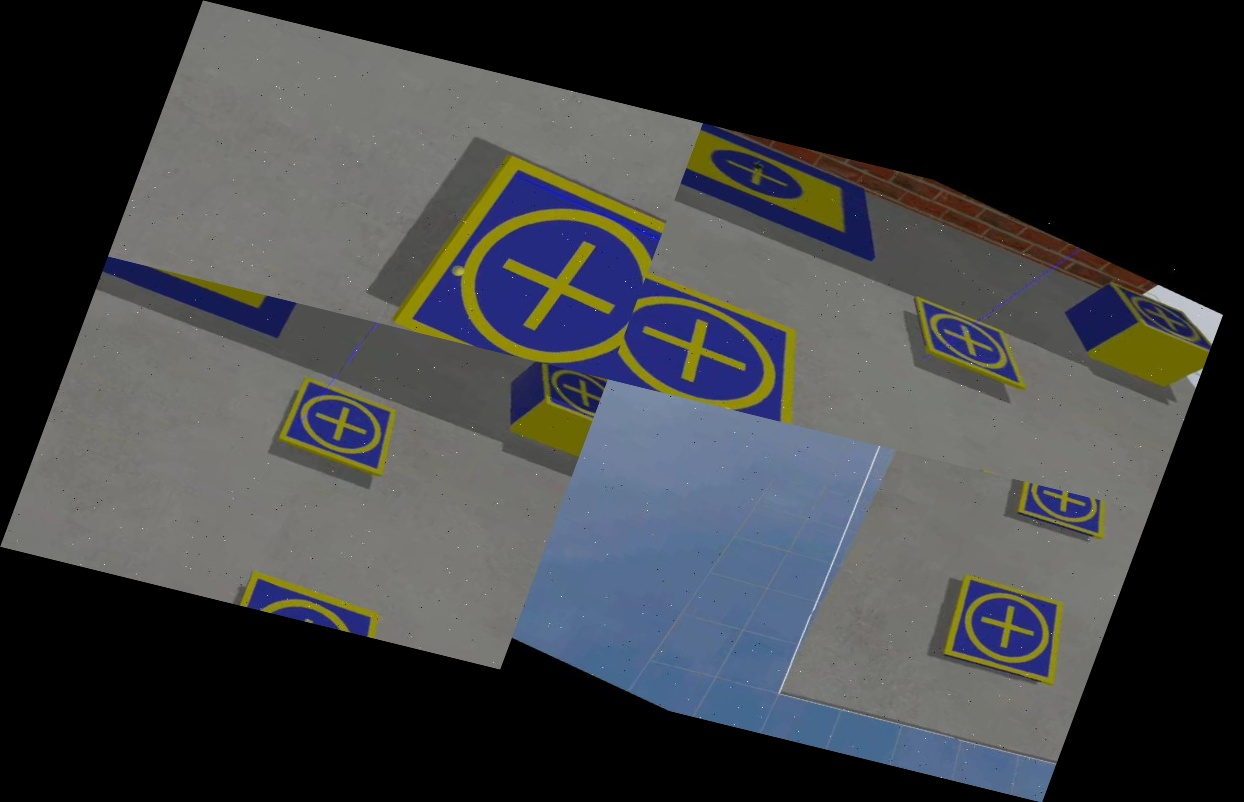large_base: (666, 123, 927, 276), (88, 256, 316, 361)
small_base: (388, 137, 678, 379), (607, 258, 874, 434), (907, 555, 1105, 706), (217, 553, 433, 648), (260, 373, 425, 494), (880, 289, 1058, 399), (1080, 272, 1226, 363), (987, 477, 1128, 555), (507, 360, 607, 436)
